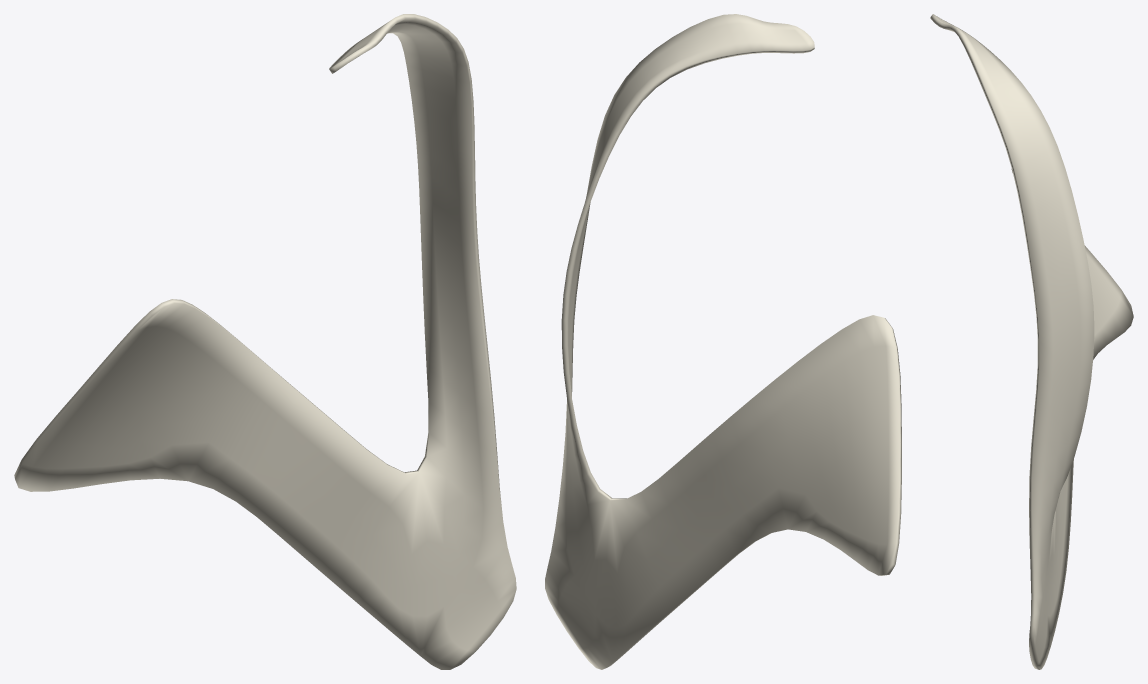
3 renders of one model, left to right at view 1: azimuth 30°, elevation 25°; view 2: azimuth 150°, elevation 25°; view 3: azimuth 270°, elevation 25°, orthographic. The views are drawn at different scales.
Visible parts, largest first — view 1: ZA_e3216b1fed30acfb; view 2: ZA_e3216b1fed30acfb; view 3: ZA_e3216b1fed30acfb.
Boxes of the visible parts, x1,y1,x2,y2 form: ZA_e3216b1fed30acfb: (14, 14, 516, 669); ZA_e3216b1fed30acfb: (545, 14, 901, 669); ZA_e3216b1fed30acfb: (930, 14, 1133, 669).
Size of the model in its own units: 0.0466 by 0.0715 by 0.022.
